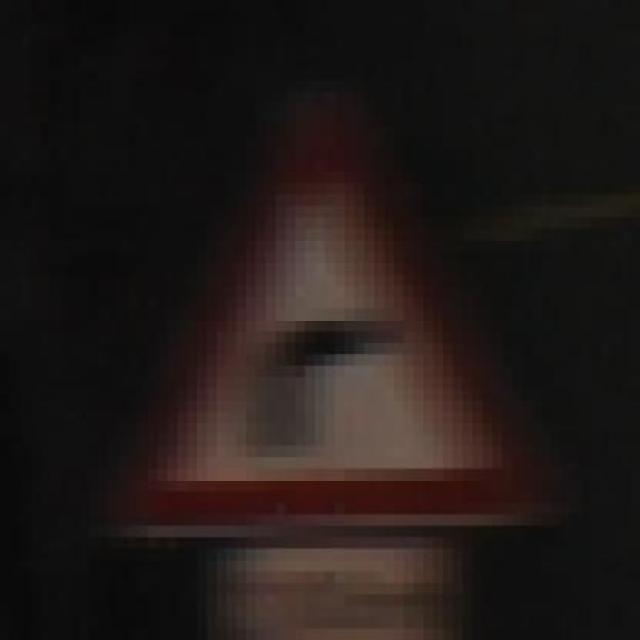Dangerous Rright Curve Ahead: (118, 114, 580, 549)
